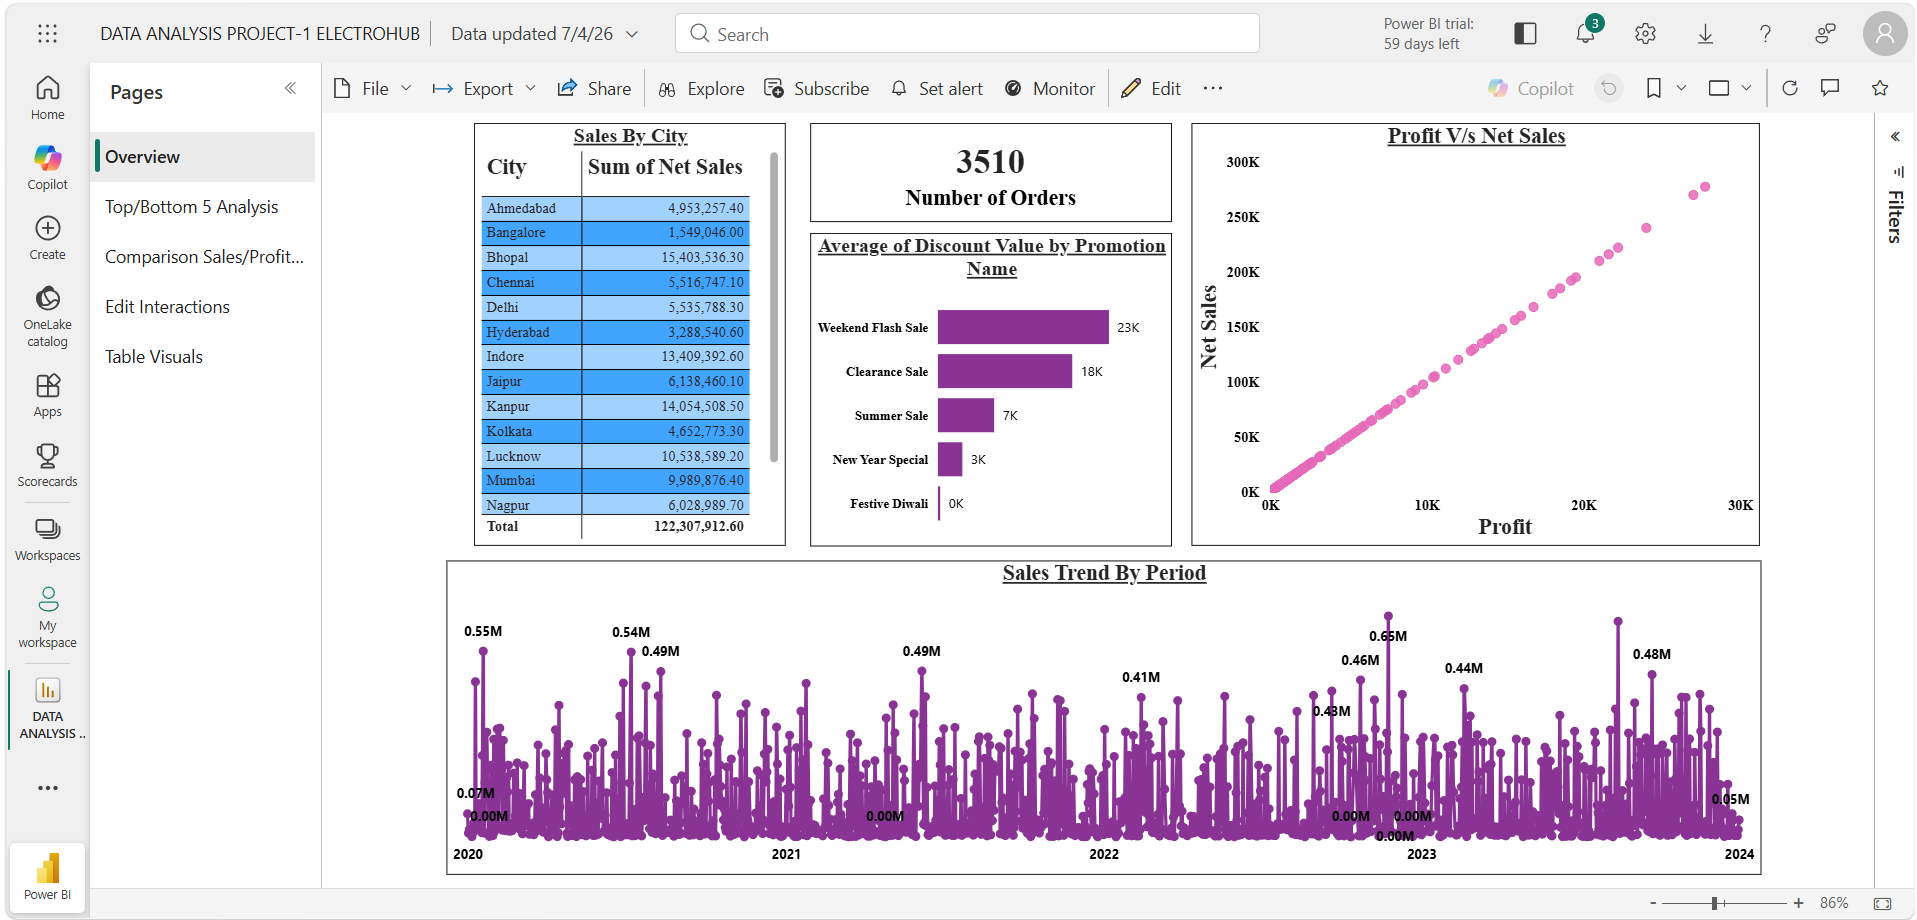

The page's visual inventory and layout, read from the dashboard file:
{"tool":"powerbi","page":{"name":"Overview","canvas":[1280,720],"ordinal":0},"visuals":[{"type":"lineChart","title":"Sales Trend By Period","fields":{"Y":["Sum(Fact Table.Net Sales)"],"Category":["Fact Table.Date (dd/mm/yyyy).Variation.Date Hierarchy.Year"]},"box":[34.3,415.8,1221.3,292.3],"z":0},{"type":"scatterChart","title":"Profit V/s Net Sales","fields":{"X":["Fact Table.Profit"],"Y":["Fact Table.Net Sales"]},"box":[727.3,9.6,528.3,392.5],"z":1000},{"type":"barChart","fields":{"Category":["Dim Promotion.Promotion Name"],"Y":["Avg(Fact Table.Discount Value  )"]},"box":[373.2,111.1,336.2,290.9],"z":2000},{"type":"card","fields":{"Values":["Count(Fact Table.Order ID)"]},"box":[373.2,9.6,336.2,91.9],"z":4000},{"type":"tableEx","title":"Sales By City","fields":{"Values":["Dim Customers.City","Sum(Fact Table.Net Sales)"]},"box":[60.4,9.6,289.5,392.5],"z":4001}]}

Visuals, with their boxes on the page's 1280x720 design canvas (x1, y1, x2, y2). These are canvas units, not pixel positions in the 1917x920 screenshot, which may show the page scaled, cropped or inside an application window:
"Sales Trend By Period" lineChart: [left=34, top=416, right=1256, bottom=708]
"Profit V/s Net Sales" scatterChart: [left=727, top=10, right=1256, bottom=402]
barChart - Dim Promotion.Promotion Name x Avg(Fact Table.Discount Value  ): [left=373, top=111, right=709, bottom=402]
card - Count(Fact Table.Order ID): [left=373, top=10, right=709, bottom=102]
"Sales By City" tableEx: [left=60, top=10, right=350, bottom=402]
